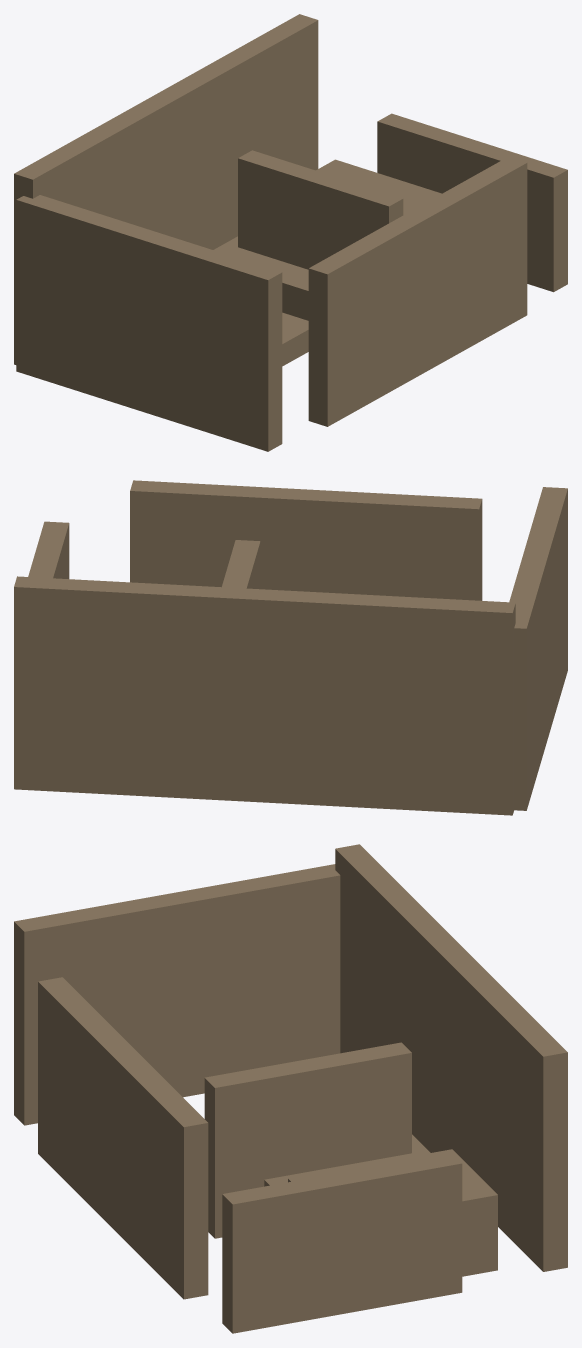
File: bushiribana.glb
3 views of the same model, one above another, from view 1: azimuth 30°, elevation 25°; view 2: azimuth 150°, elevation 25°; view 3: azimuth 270°, elevation 25° (orthographic). The views are drawn at different scales.
Visible parts, largest first — view 1: bushiribana_lod0; view 2: bushiribana_lod0; view 3: bushiribana_lod0.
Part boxes in pixels (<box>): bushiribana_lod0: <box>14,14,567,451</box>; bushiribana_lod0: <box>14,480,567,815</box>; bushiribana_lod0: <box>14,844,567,1333</box>.
Size of what is drawn, in the model's own units: 22.08 by 8 by 18.65.
